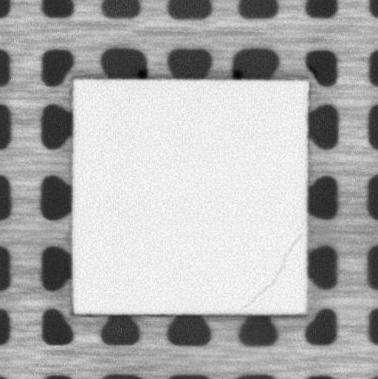DIE_CRACK: (245, 232, 304, 310)
